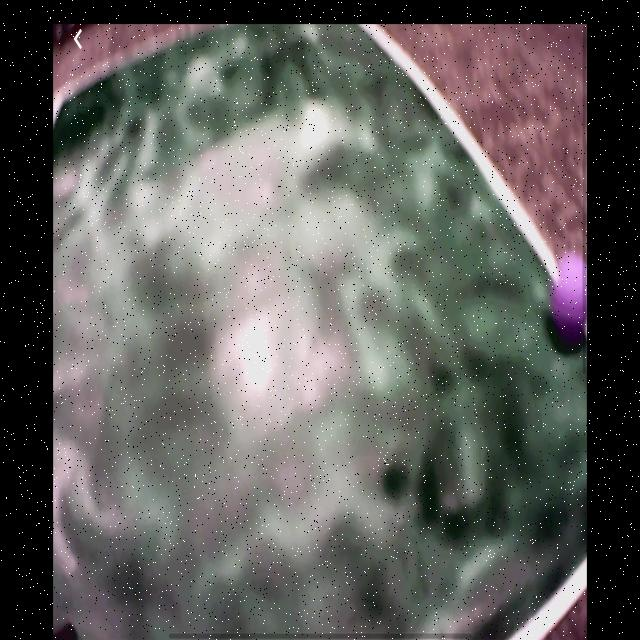ball: (555, 254, 591, 332)
